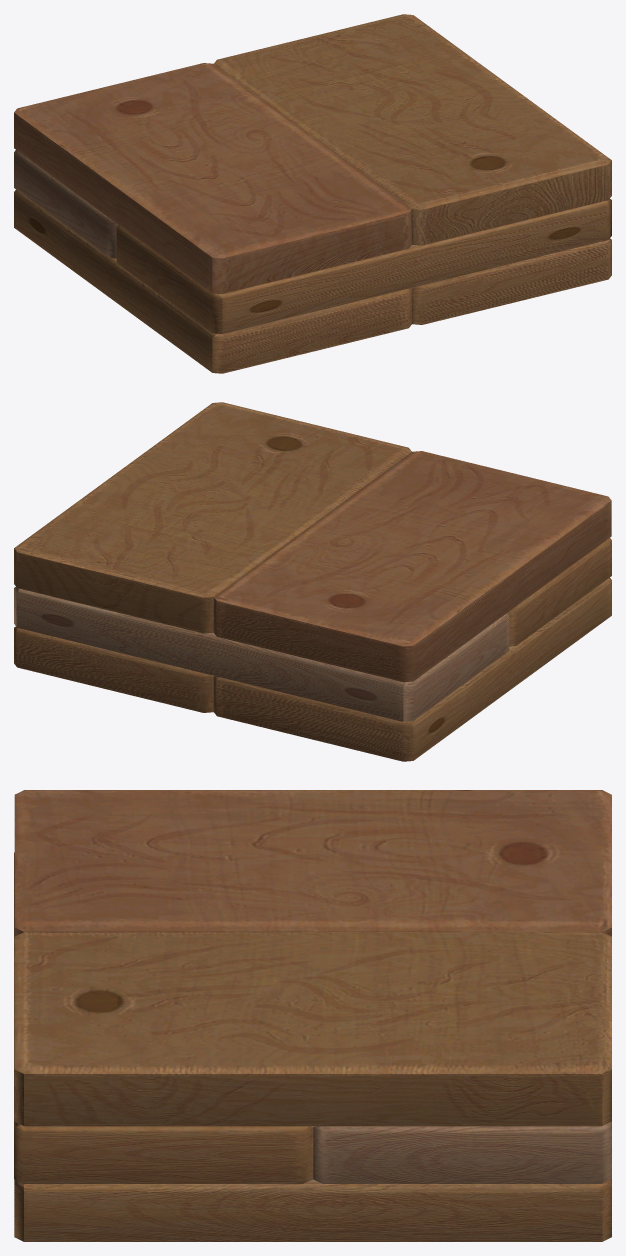
File: blockBox.fbx
3 renders of one model, top to bottom at view 1: azimuth 30°, elevation 25°; view 2: azimuth 150°, elevation 25°; view 3: azimuth 270°, elevation 25°, orthographic. The views are drawn at different scales.
Parts seen in each view (by area): view 1: root; view 2: root; view 3: root.
Part boxes in pixels (x1,y1,x2,y2): root: (14, 14, 611, 373); root: (14, 402, 611, 761); root: (14, 790, 611, 1241).
Bounding box in the file's own units: 0.5173 × 0.1475 × 0.4602.
Materials: 1 (1 with a texture image).
